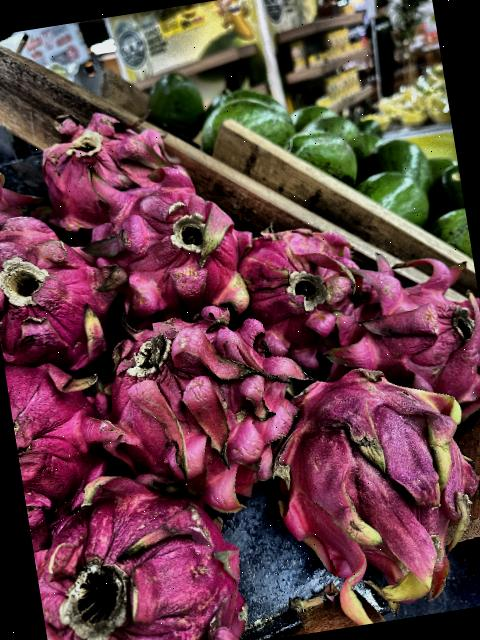buah-naga-belum-matang: (274, 344, 480, 619)
buah-naga-matang: (98, 295, 308, 517), (32, 457, 261, 640), (87, 156, 258, 326), (331, 245, 480, 420), (229, 214, 367, 366), (3, 342, 114, 526), (26, 93, 177, 218), (0, 205, 118, 363), (0, 147, 35, 229)
